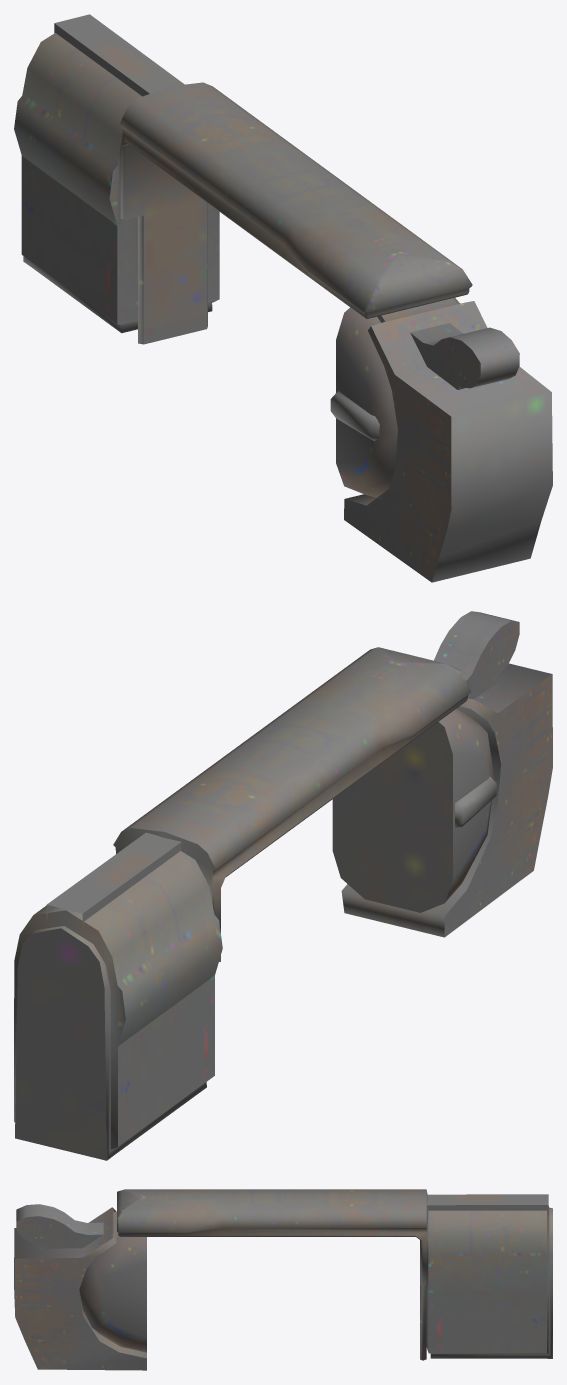
Rendered from body3.obj.
The picture shows the model from 3 angles, top to bottom: view 1: azimuth 30°, elevation 25°; view 2: azimuth 150°, elevation 25°; view 3: azimuth 270°, elevation 25°; orthographic projection. The views are drawn at different scales.
Parts seen in each view (by area): view 1: body3; view 2: body3; view 3: body3.
Boxes of the visible parts, bbox=[...] form: body3: bbox=[14, 14, 552, 582]; body3: bbox=[14, 611, 552, 1160]; body3: bbox=[14, 1189, 552, 1370].
Size of the model in its own units: 4.5 by 8.72 by 26.74.
